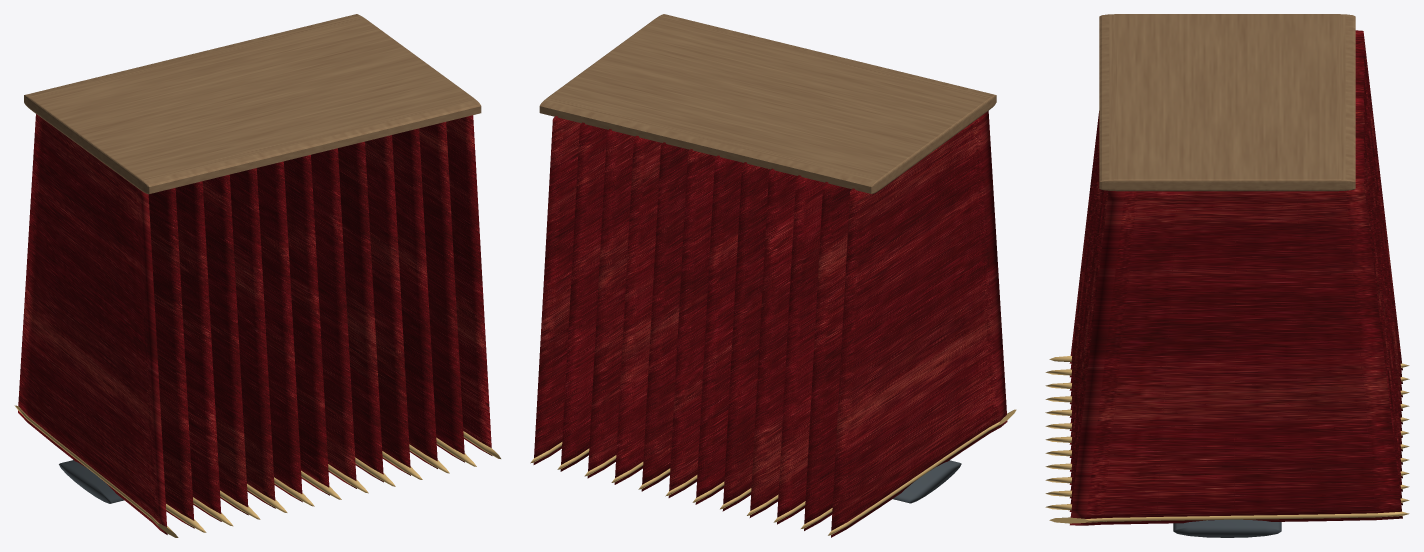
The model's file is gate.gltf.
3 renders of one model, left to right at view 1: azimuth 30°, elevation 25°; view 2: azimuth 150°, elevation 25°; view 3: azimuth 270°, elevation 25°, orthographic. The views are drawn at different scales.
Visible parts, largest first — view 1: gate; view 2: gate; view 3: gate.
Boxes of the visible parts, bbox=[...] form: gate: bbox=[14, 14, 500, 537]; gate: bbox=[530, 14, 1016, 537]; gate: bbox=[1045, 14, 1409, 537].
Size of the model in its own units: 1 by 1 by 0.925.
4 materials, 2 textured.
